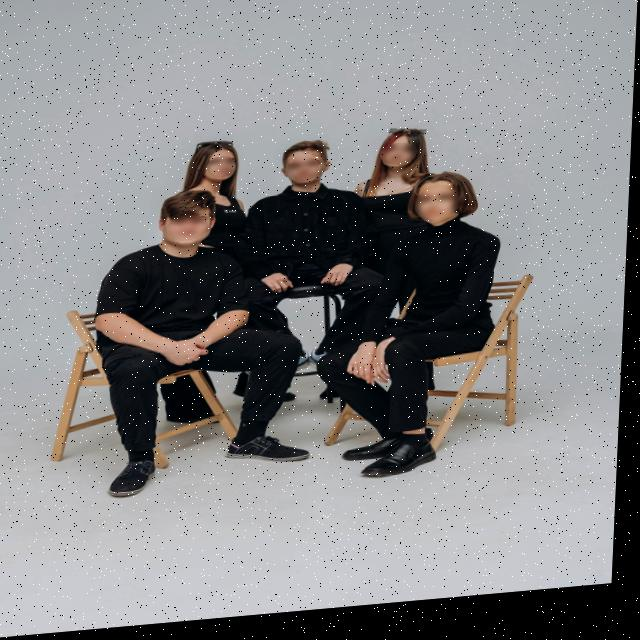Person: (80, 185, 327, 541), (329, 170, 524, 494), (241, 137, 369, 325), (337, 123, 448, 230), (179, 132, 265, 240)
